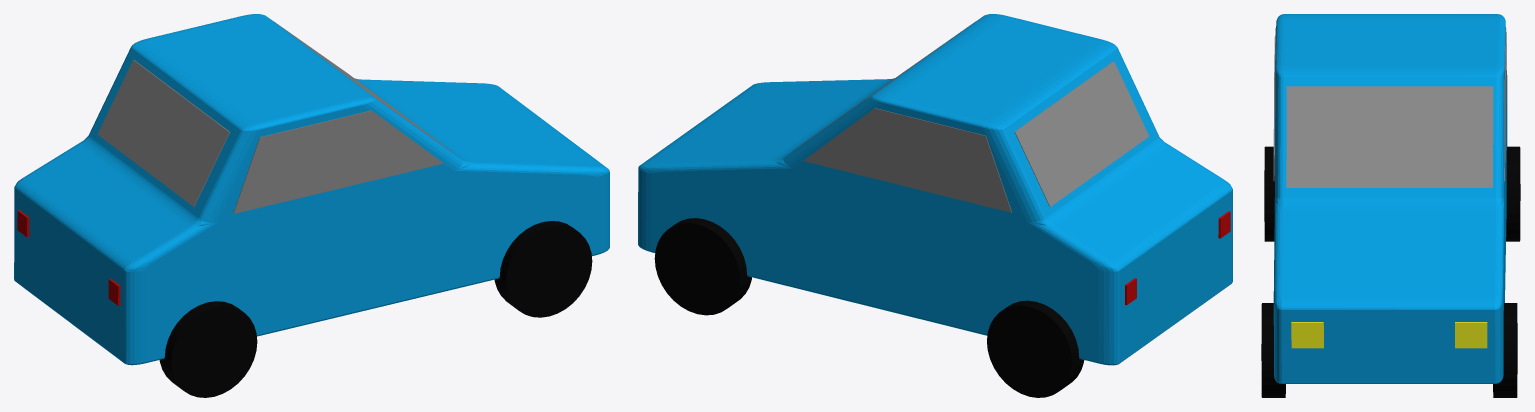
The model's file is car_gazebo.dae.
The picture shows the model from 3 angles, left to right: view 1: azimuth 30°, elevation 25°; view 2: azimuth 150°, elevation 25°; view 3: azimuth 270°, elevation 25°; orthographic projection. The views are drawn at different scales.
Parts seen in each view (by area): view 1: Karosserie, Scheiben, Räder; view 2: Karosserie, Scheiben, Räder; view 3: Karosserie, Scheiben, Räder, Scheinwerfer_re, Scheinwerfer_li.
Boxes of the visible parts, <box> form: Karosserie: <box>14,14,609,365</box>; Scheiben: <box>97,22,453,213</box>; Räder: <box>159,221,592,397</box>; Karosserie: <box>638,14,1232,365</box>; Scheiben: <box>793,22,1149,212</box>; Räder: <box>654,218,1084,397</box>; Karosserie: <box>1273,14,1507,383</box>; Scheiben: <box>1273,28,1506,187</box>; Räder: <box>1261,146,1520,397</box>; Scheinwerfer_re: <box>1291,322,1323,348</box>; Scheinwerfer_li: <box>1455,322,1487,348</box>.
Size of the model in its own units: 0.1334 by 0.0638 by 0.0664.
5 materials, 5 textured.
